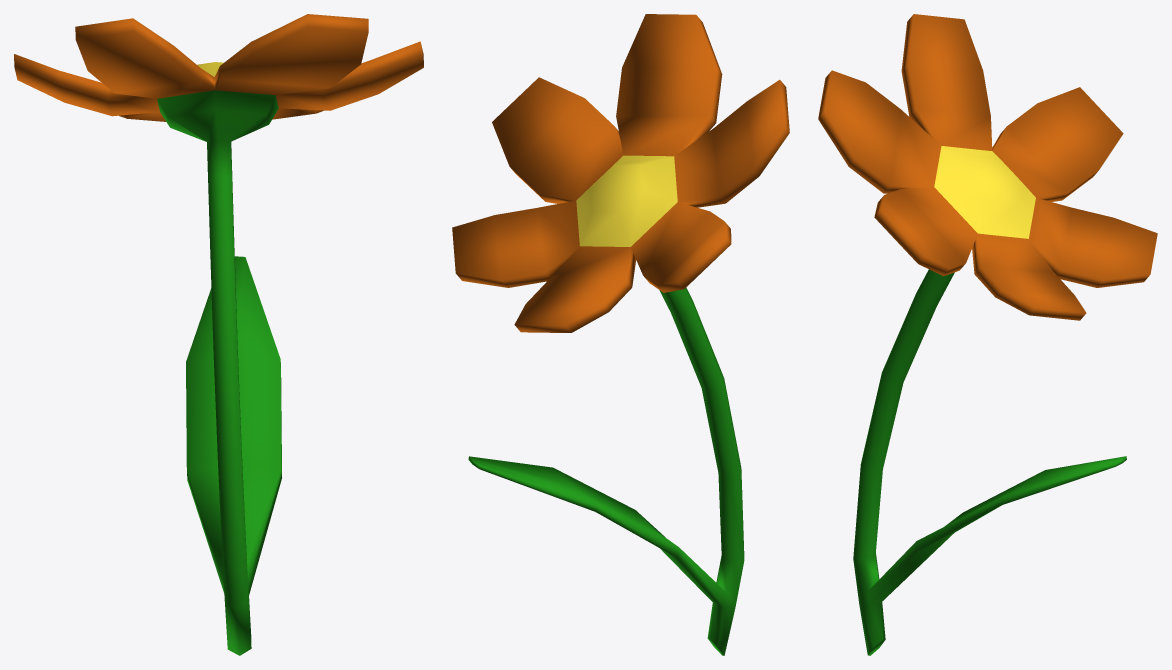
The model's file is Flower Orange 1.fbx.
3 views of the same model, side by side, from view 1: azimuth 30°, elevation 25°; view 2: azimuth 150°, elevation 25°; view 3: azimuth 270°, elevation 25° (orthographic). The views are drawn at different scales.
Visible parts, largest first — view 1: Flower Orange 1; view 2: Flower Orange 1; view 3: Flower Orange 1.
Part boxes in pixels (x1,y1,x2,y2): Flower Orange 1: [14, 14, 423, 655]; Flower Orange 1: [452, 14, 789, 655]; Flower Orange 1: [818, 14, 1157, 655].
Bounding box in the file's own units: 34.59 × 32.72 × 64.57.
